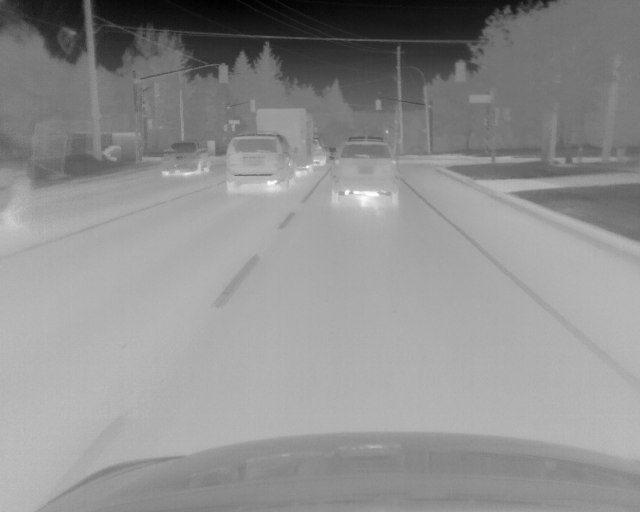car: (332, 134, 401, 207), (226, 132, 298, 191), (255, 108, 314, 176), (162, 140, 212, 177), (312, 134, 328, 168)
